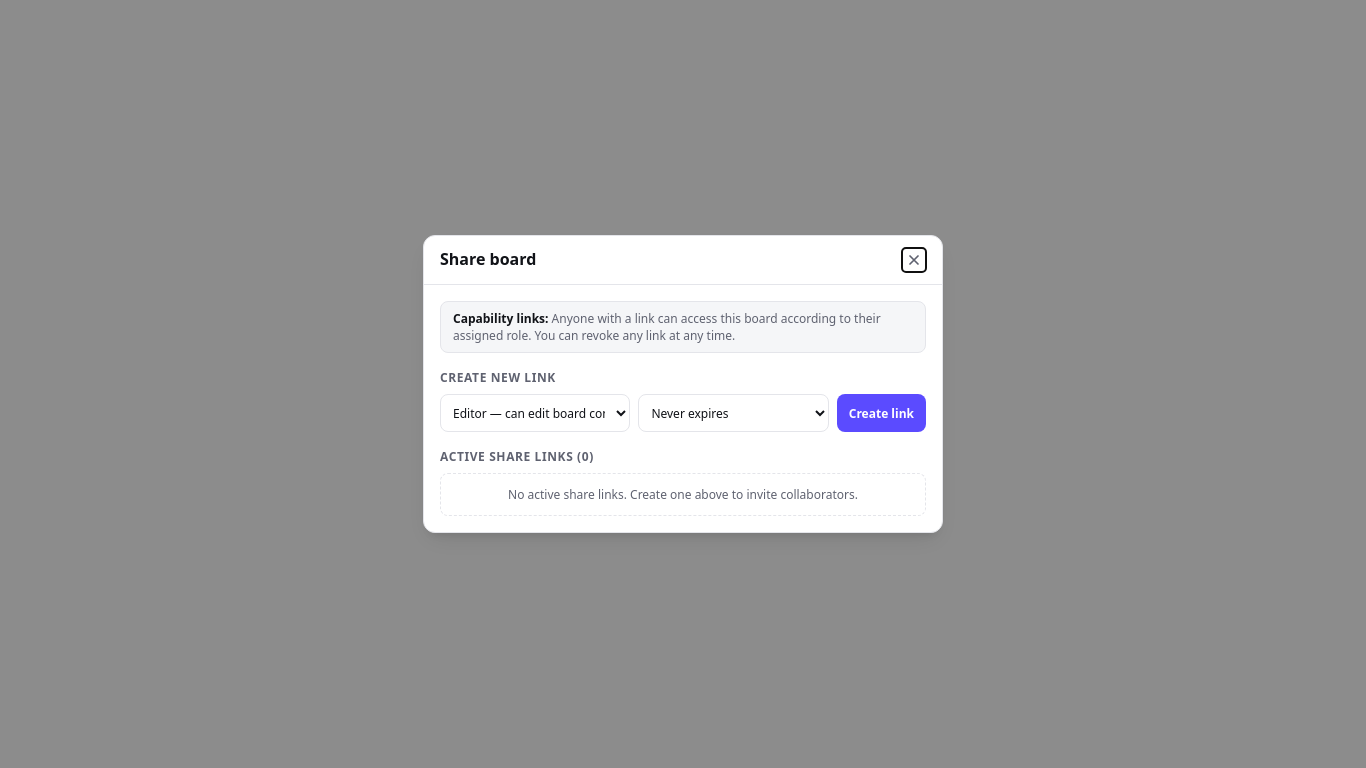
Test case: ShareModal with a sync server › shows the error and adds no link when creating fails
The width and height of the screenshot is (1366, 768).
What coordinates should you click on to do the following:
click the button with test id "create-link-button"
I would click on:
 (881, 413)
Its box is [837, 394, 926, 432].
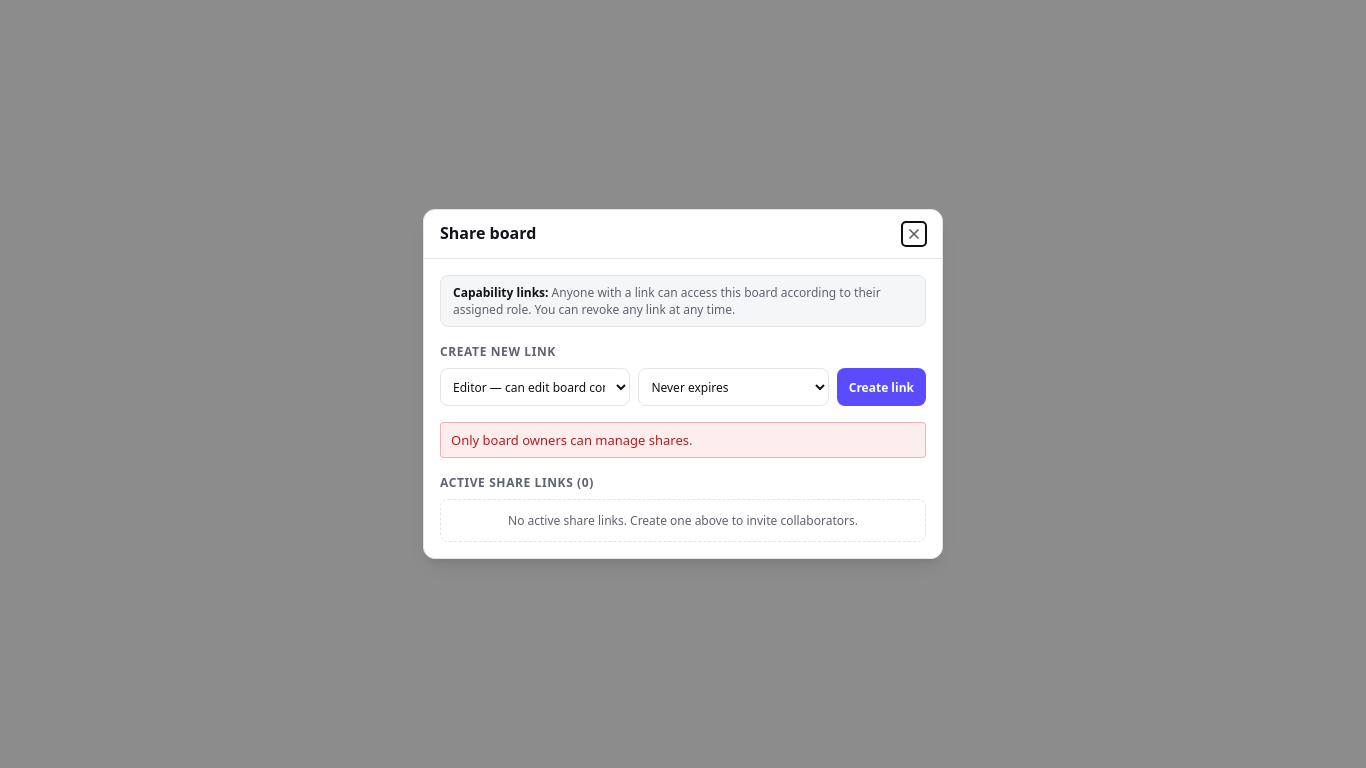
Expected: the text with test id "no-share-links" is shown, [440, 499, 926, 542]
Expected: the message with test id "share-error" reads "Only board owners can manage shares.", [451, 431, 692, 449]
